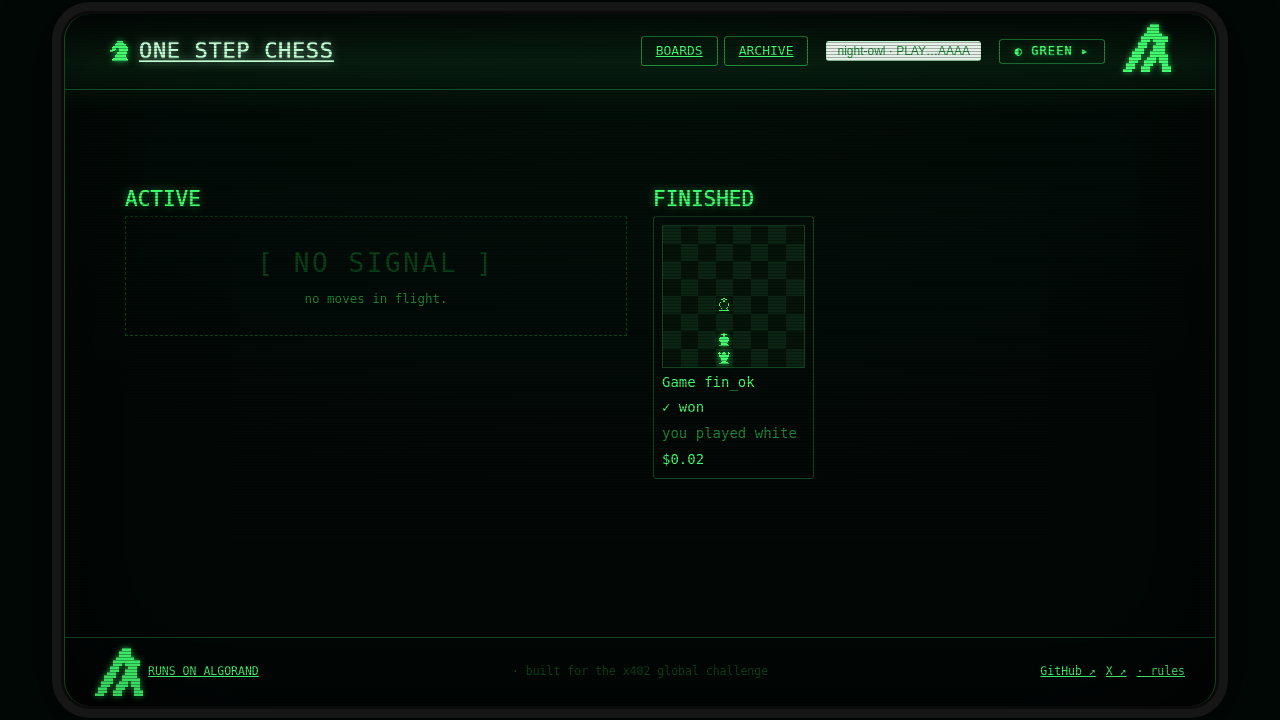
Test: finalized_game_quick_view_explains_a_material_win_on_the_replay
What coordinates should you click on to do the following:
click the button with test id "finished-card"
I would click on:
 (733, 348)
Its box is top-left (653, 216), bottom-right (814, 479).
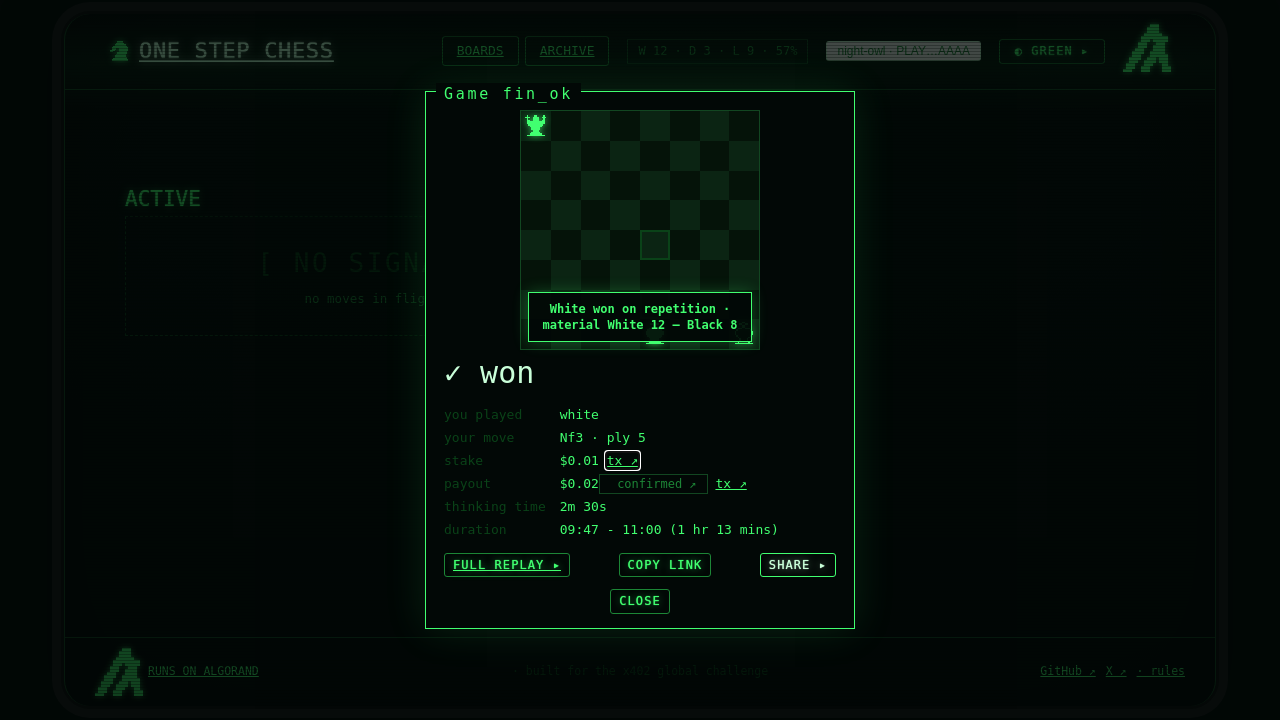
Expected: the message with test id "replayer-final-notice" reads "White won on repetition · material White 12 – Black 8", top-left (542, 302), bottom-right (738, 332)
